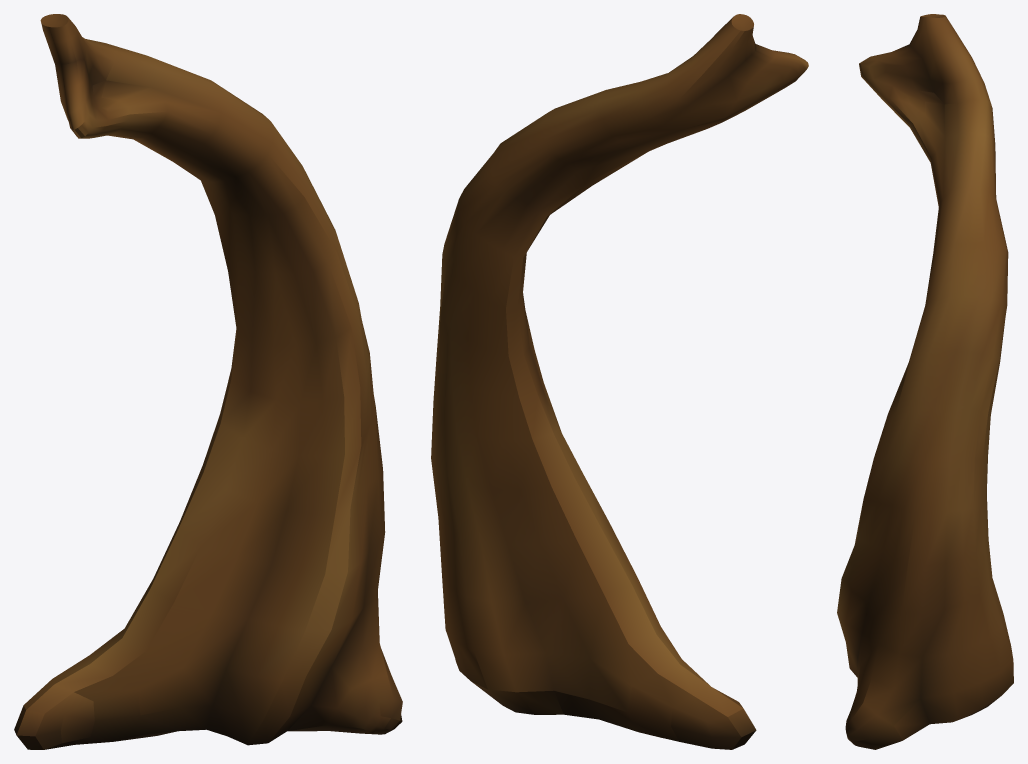
File: Snag1_1.2.fbx
3 renders of one model, left to right at view 1: azimuth 30°, elevation 25°; view 2: azimuth 150°, elevation 25°; view 3: azimuth 270°, elevation 25°, orthographic. The views are drawn at different scales.
Visible parts, largest first — view 1: Snag1; view 2: Snag1; view 3: Snag1.
Boxes of the visible parts, x1,y1,x2,y2 form: Snag1: (14,14,402,749); Snag1: (431,14,808,749); Snag1: (837,14,1013,749).
Size of the model in its own units: 573 by 1207 by 311.
